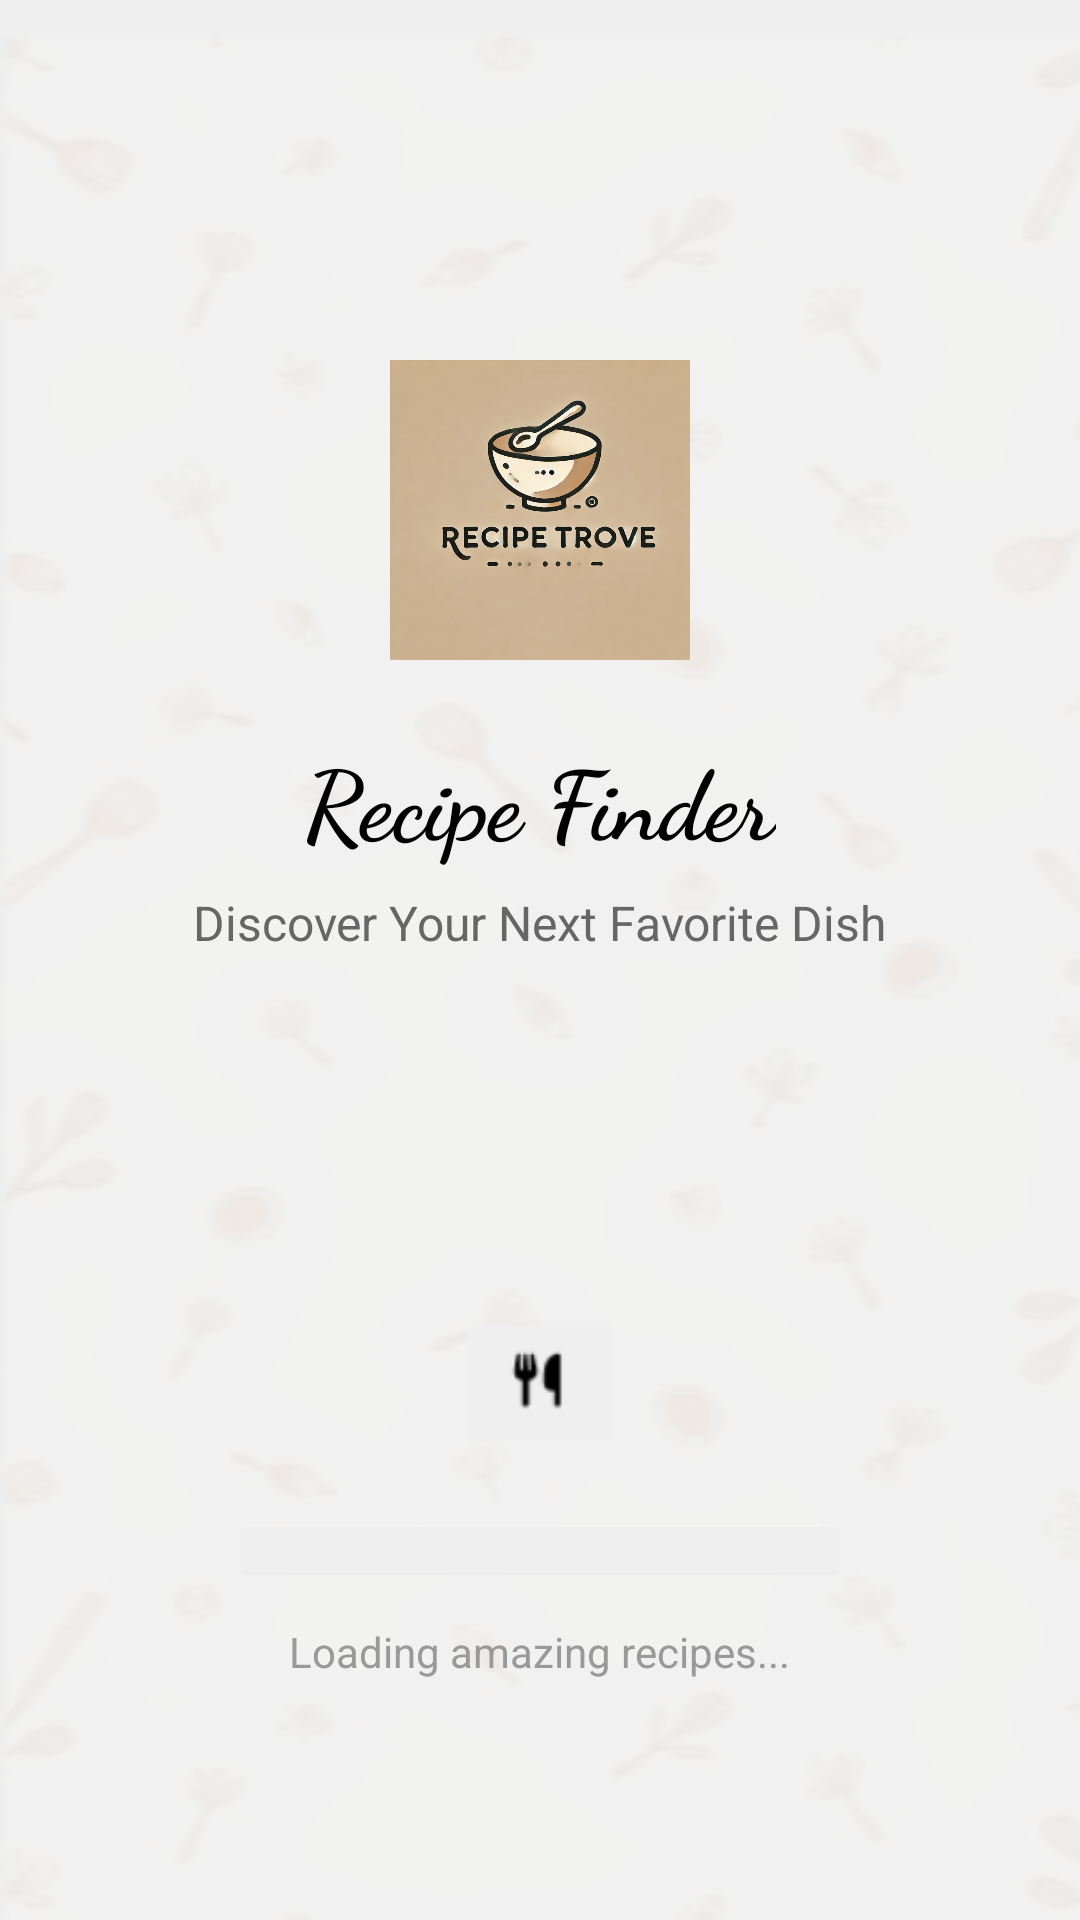

Icon bounding boxes for this 1080×1920 phone screenshot, format (x1, y1, x2, y2):
utensils: (512, 1352, 562, 1408)
